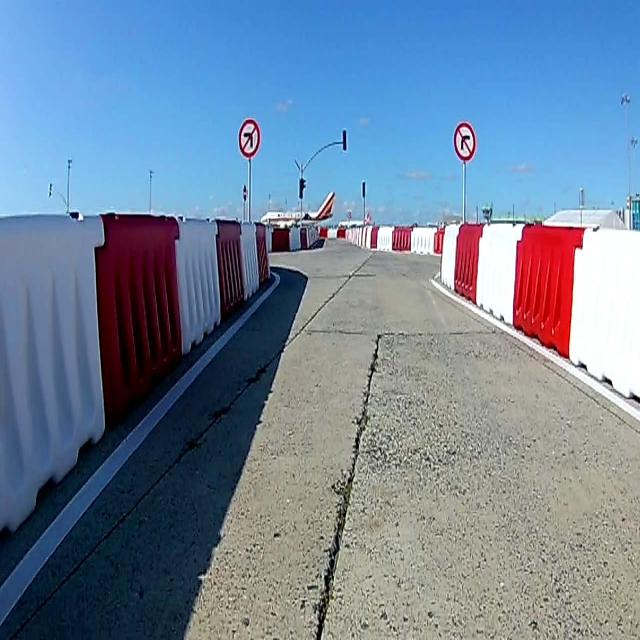sagadonulmez: (454, 122, 476, 161)
soladonulmez: (238, 119, 260, 157)
